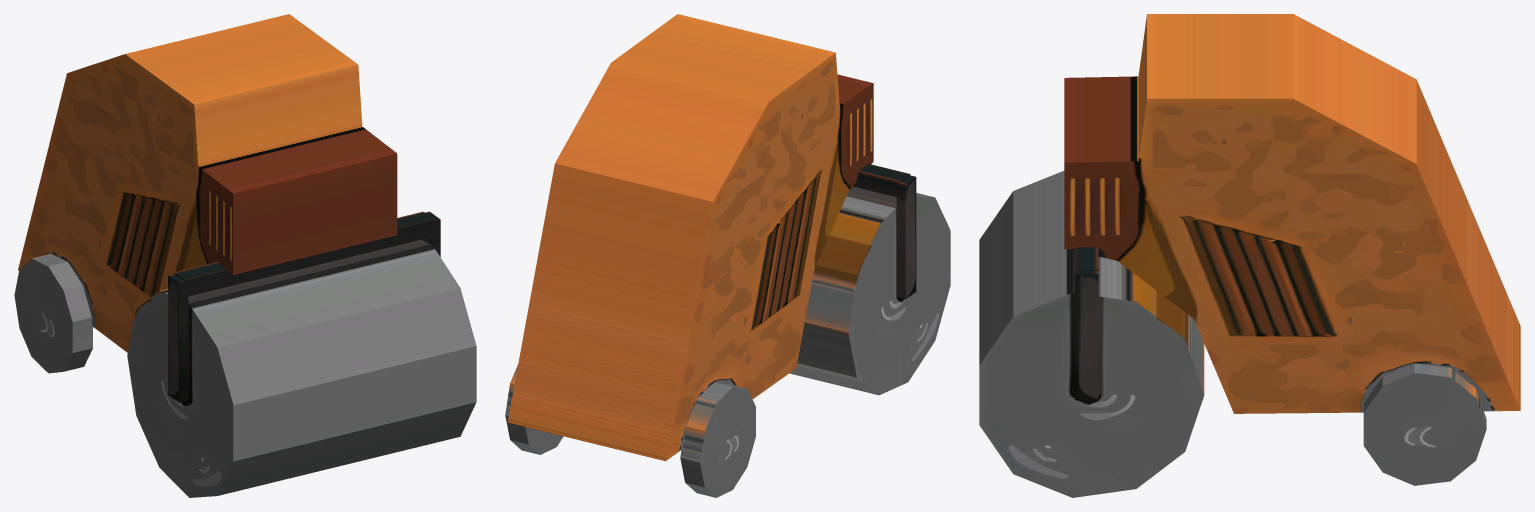
File: Mechbesh.glb
3 renders of one model, left to right at view 1: azimuth 30°, elevation 25°; view 2: azimuth 150°, elevation 25°; view 3: azimuth 270°, elevation 25°, orthographic. The views are drawn at different scales.
Visible parts, largest first — view 1: Mechbesh; view 2: Mechbesh; view 3: Mechbesh.
Boxes of the visible parts, left/top/right/bottom form: Mechbesh: left=14, top=14, right=476, bottom=497; Mechbesh: left=505, top=14, right=950, bottom=497; Mechbesh: left=979, top=14, right=1520, bottom=497.
Size of the model in its own units: 84.36 by 110 by 143.
1 material, 1 textured.
